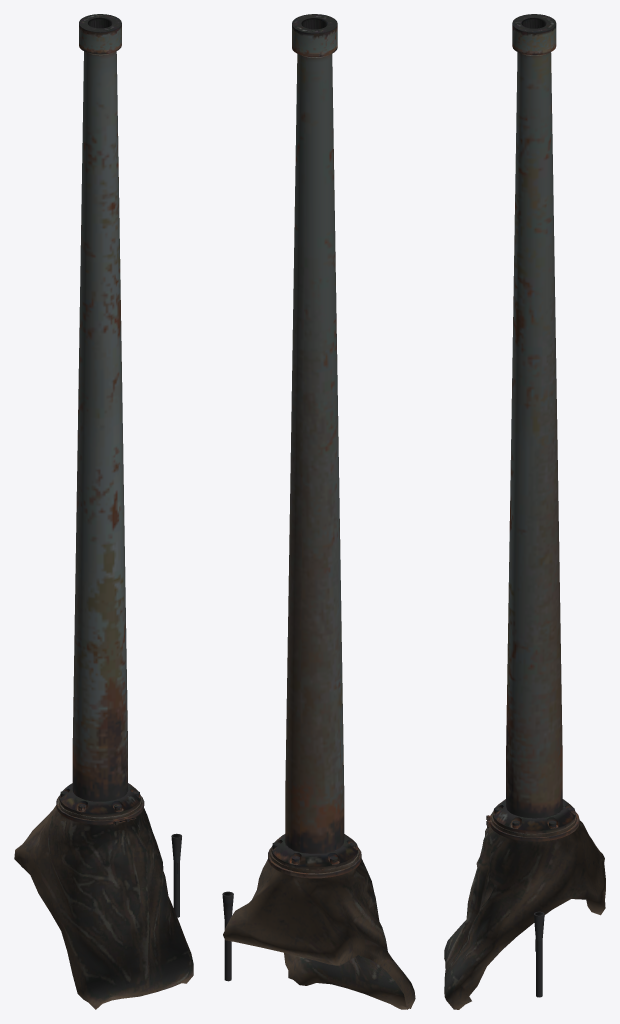
File: Gun_05.glb
3 views of the same model, side by side, from view 1: azimuth 30°, elevation 25°; view 2: azimuth 150°, elevation 25°; view 3: azimuth 270°, elevation 25° (orthographic). The views are drawn at different scales.
Visible parts, largest first — view 1: set_0_group_0; view 2: set_0_group_0; view 3: set_0_group_0.
Boxes of the visible parts, box(x1,y1,x2,y2) form: set_0_group_0: box(14, 14, 193, 1009); set_0_group_0: box(222, 14, 415, 1009); set_0_group_0: box(444, 14, 605, 1009).
Bounding box in the file's own units: 0.6514 × 4.18 × 0.6362.
Materials: 1 (1 with a texture image).
